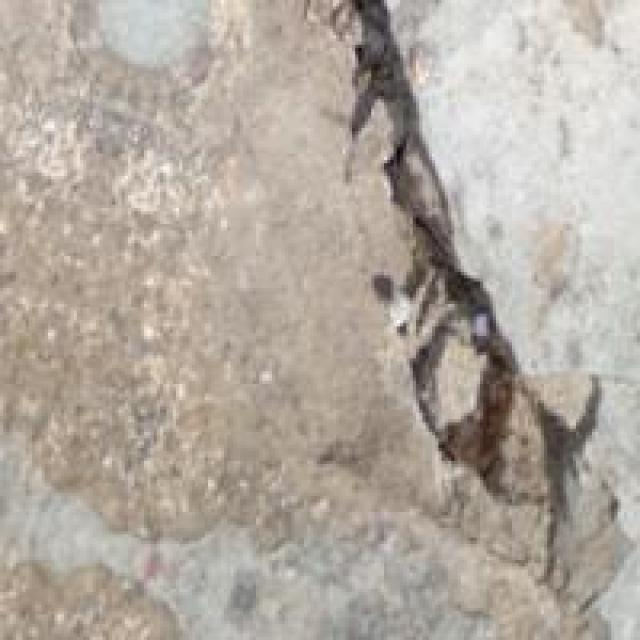crack: (276, 3, 614, 534)
